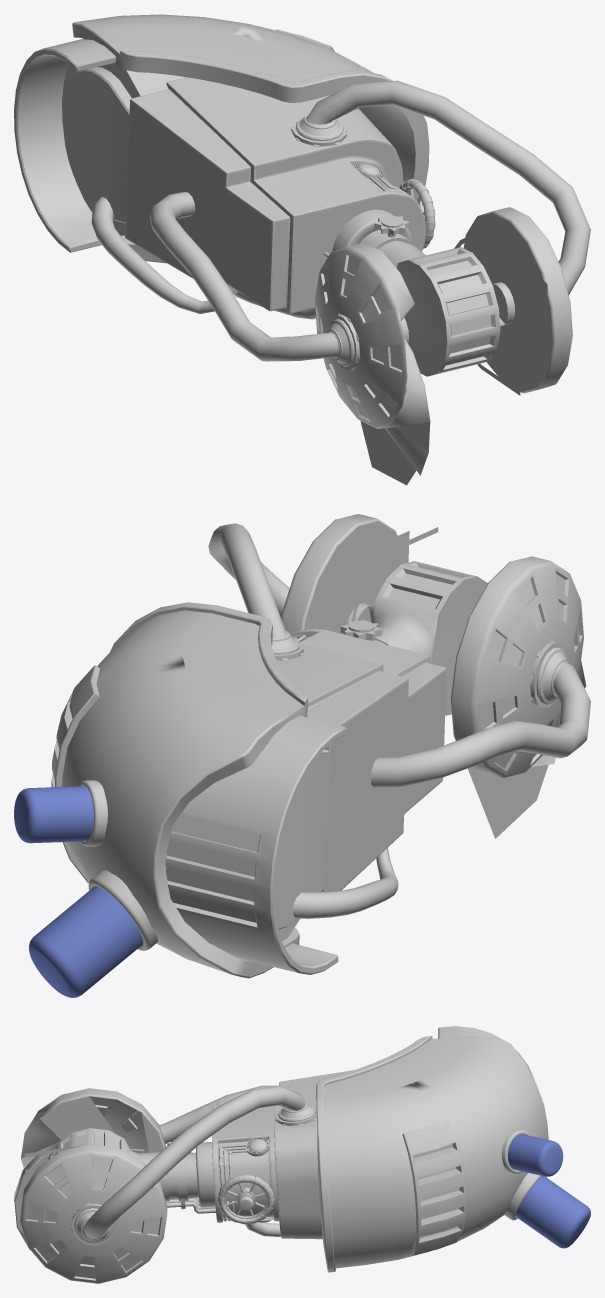
File: hombro.obj
3 views of the same model, one above another, from view 1: azimuth 30°, elevation 25°; view 2: azimuth 150°, elevation 25°; view 3: azimuth 270°, elevation 25° (orthographic). The views are drawn at different scales.
Visible parts, largest first — view 1: Cube.006_Material.004, Cylinder.013_Material.004, Cube.014_Material.004, Cube_Material.003, Cylinder.014_Piece_Material.004, Vert_Curve_Material.004, Vert.001_Curve_Material.003, Cube.021_Material.004, Vert.002_Curve_Material.004, Cylinder.001_Material.004, Cylinder.070_Material.004, Cylinder.067_Material.004 (+1 smaller); view 2: Cube_Material.003, Cube.014_Material.004, Cylinder.013_Material.004, Cube.006_Material.004, Cylinder.014_Piece_Material.004, Vert.001_Curve_Material.003, Cylinder.008_glass.001, Cylinder.052_glass.001, Vert_Curve_Material.004, Cube.021_Material.004, Vert.002_Curve_Material.004, Cylinder.067_Material.004 (+4 smaller); view 3: Cube_Material.003, Cylinder.013_Material.004, Cube.006_Material.004, Vert_Curve_Material.004, Cylinder.008_glass.001, Cylinder.001_Material.004, Cylinder.052_glass.001, Cylinder.014_Material.004, Cylinder.014_Piece_Material.004, Vert.001_Curve_Material.003, Cylinder.067_Material.004, Cylinder.070_Material.004 (+5 smaller).
Part boxes in pixels (x1,y1,x2,y2): Cube.006_Material.004: (125, 77, 426, 313); Cylinder.013_Material.004: (314, 207, 572, 485); Cube.014_Material.004: (14, 39, 185, 252); Cube_Material.003: (72, 14, 429, 263); Cylinder.014_Piece_Material.004: (383, 243, 500, 376); Vert_Curve_Material.004: (306, 80, 590, 294); Vert.001_Curve_Material.003: (150, 191, 338, 361); Cube.021_Material.004: (454, 236, 547, 395); Vert.002_Curve_Material.004: (91, 197, 214, 313); Cylinder.001_Material.004: (332, 209, 414, 251); Cylinder.070_Material.004: (290, 114, 347, 146); Cylinder.067_Material.004: (327, 313, 360, 370); Cube_Material.003: (51, 602, 307, 978); Cube.014_Material.004: (165, 715, 346, 974); Cylinder.013_Material.004: (281, 514, 586, 838); Cube.006_Material.004: (277, 629, 446, 891); Cylinder.014_Piece_Material.004: (366, 561, 487, 715); Vert.001_Curve_Material.003: (370, 663, 590, 787); Cylinder.008_glass.001: (29, 886, 143, 997); Cylinder.052_glass.001: (14, 786, 93, 843); Vert_Curve_Material.004: (208, 523, 289, 639); Cube.021_Material.004: (326, 527, 438, 634); Vert.002_Curve_Material.004: (292, 848, 398, 918); Cylinder.067_Material.004: (530, 640, 569, 708); Cube_Material.003: (316, 1036, 548, 1272); Cylinder.013_Material.004: (14, 1088, 167, 1283); Cube.006_Material.004: (212, 1070, 352, 1239); Vert_Curve_Material.004: (84, 1086, 305, 1238); Cylinder.008_glass.001: (515, 1176, 590, 1248); Cylinder.001_Material.004: (167, 1142, 215, 1207); Cylinder.052_glass.001: (507, 1134, 563, 1176); Cylinder.014_Material.004: (217, 1174, 274, 1224); Cylinder.014_Piece_Material.004: (48, 1128, 169, 1201); Vert.001_Curve_Material.003: (160, 1085, 278, 1143); Cylinder.067_Material.004: (71, 1203, 115, 1245); Cylinder.070_Material.004: (275, 1102, 316, 1125).
Bounding box in the file's own units: 0.5898 × 0.4963 × 1.14.
